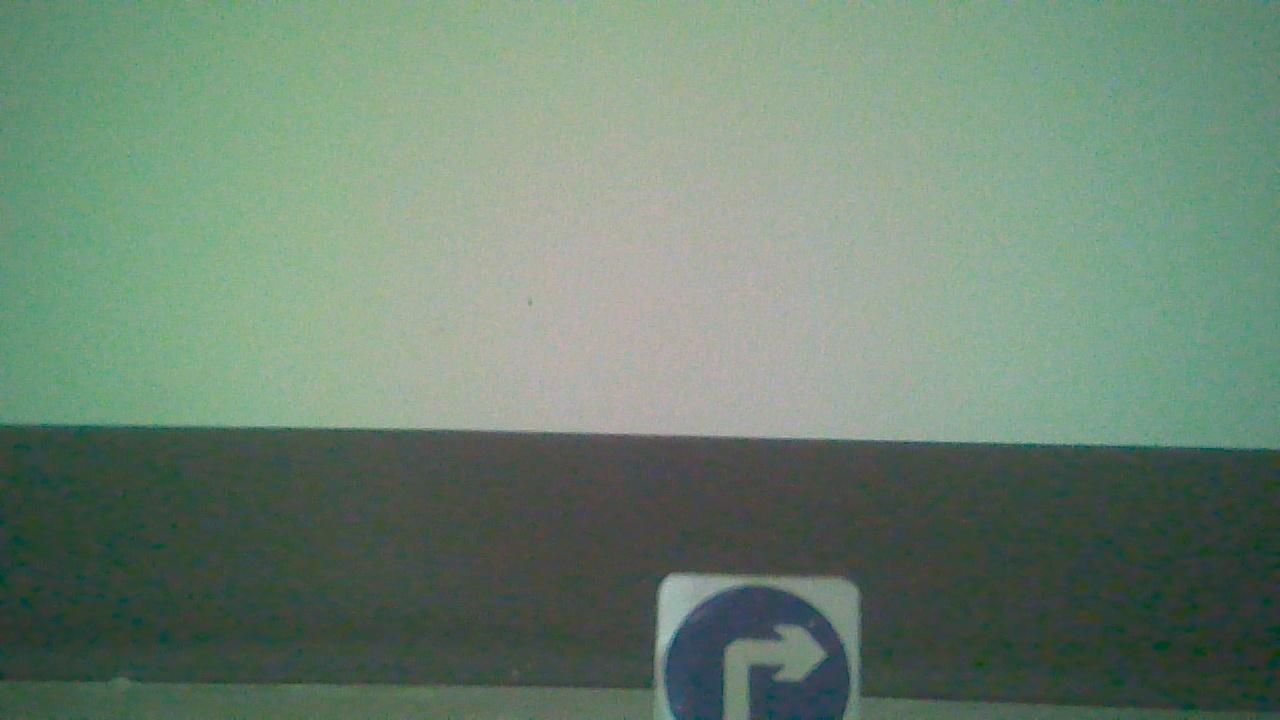turn: (656, 571, 861, 720)
